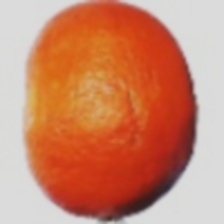tangerine: (45, 31, 202, 206)
